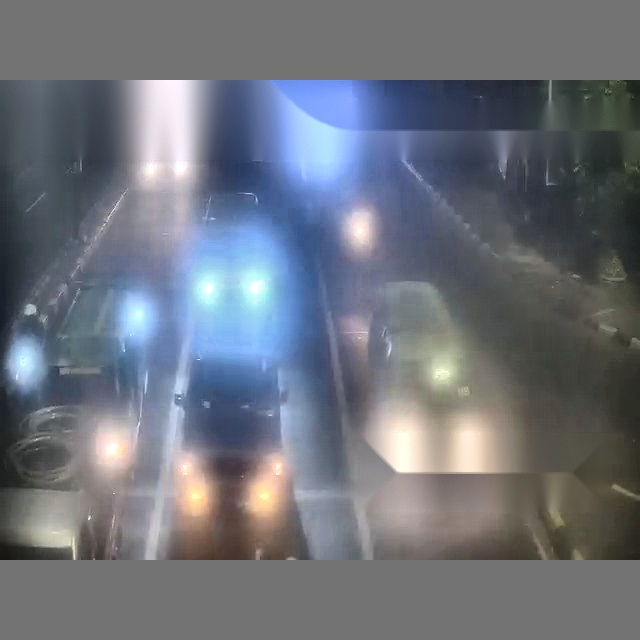Motor: (4, 332, 45, 422), (347, 208, 374, 257)
